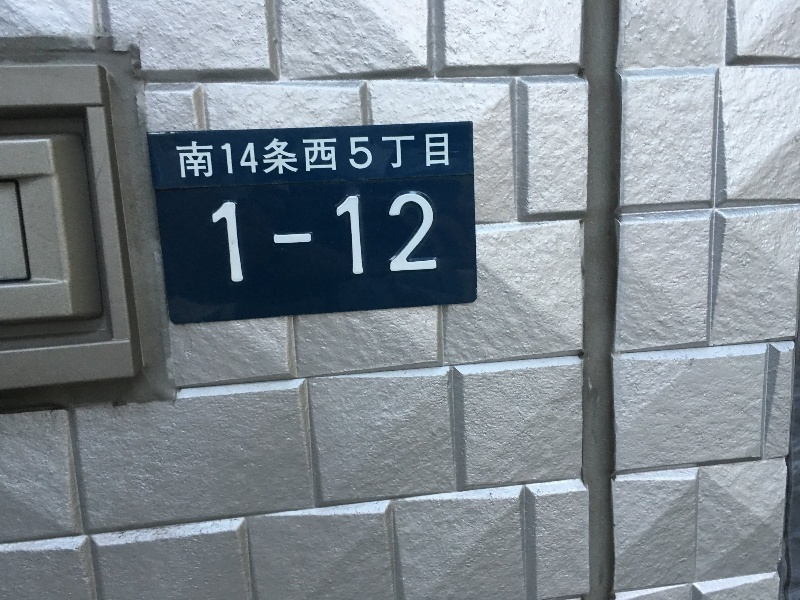text: (225, 191, 240, 285), (241, 191, 256, 285), (257, 191, 272, 285), (273, 191, 288, 285), (289, 191, 304, 285), (305, 191, 320, 285), (321, 191, 336, 285), (337, 191, 352, 285), (353, 191, 368, 285), (369, 191, 384, 285), (385, 191, 400, 285), (401, 191, 416, 285), (417, 191, 432, 285), (211, 191, 224, 285), (177, 132, 192, 184), (193, 132, 208, 184), (209, 132, 224, 184), (225, 132, 240, 184), (241, 132, 256, 184), (257, 132, 272, 184), (273, 132, 288, 184), (289, 132, 304, 184), (305, 132, 320, 184), (321, 132, 336, 184), (337, 132, 352, 184), (353, 132, 368, 184), (369, 132, 384, 184), (385, 132, 400, 184), (401, 132, 416, 184), (417, 132, 432, 184), (433, 132, 448, 184), (433, 191, 439, 285), (449, 132, 451, 184), (175, 132, 176, 184)
